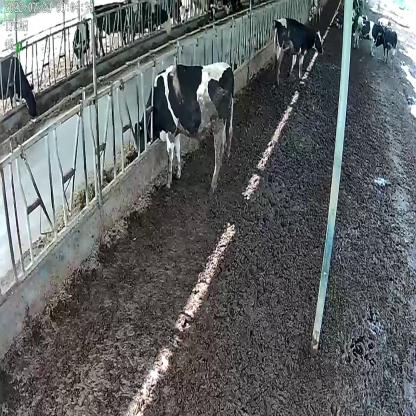cow: (132, 61, 235, 193), (271, 16, 324, 82), (354, 11, 384, 56), (375, 25, 398, 67)
